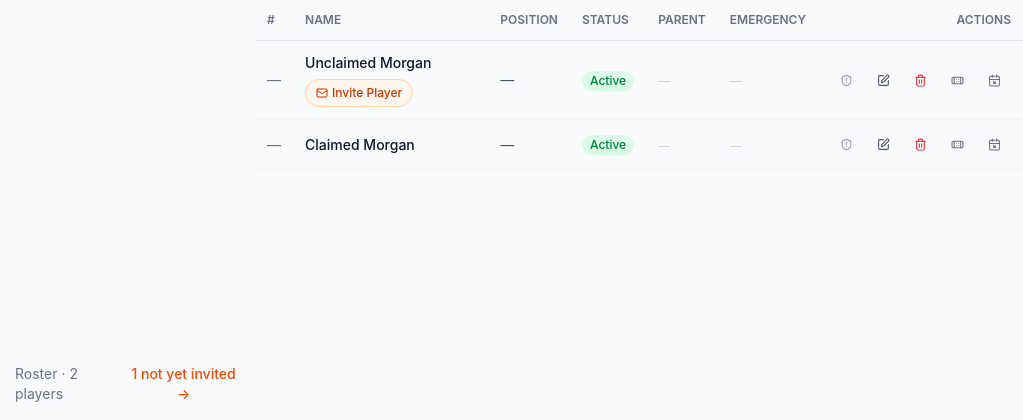
Test: RosterTable — filter toggle › clicking the filter button again shows all players
The image size is (1023, 420).
Click the button "1 not yet invited →" at (184, 384), box [128,364,239,404]
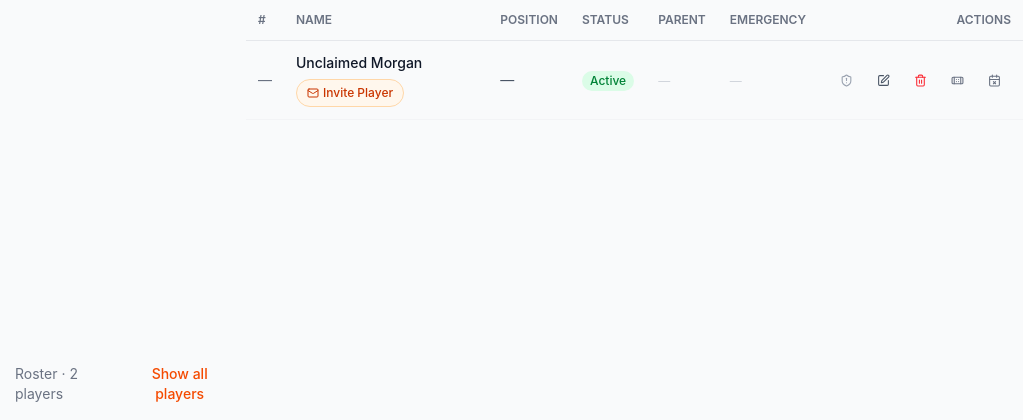
Click the button "Show all players" at (180, 384), box [129,364,230,404]
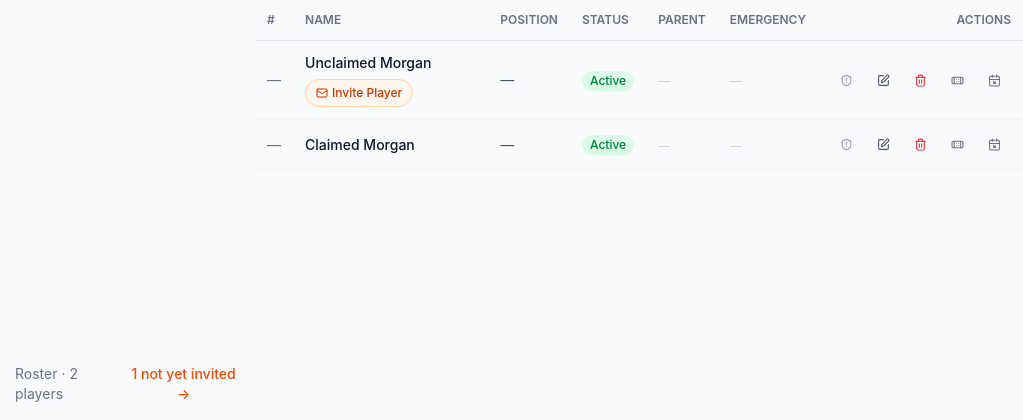
Expected: the text "Unclaimed Morgan" is shown, [305,53,431,73]
Expected: the text "Claimed Morgan" is shown, [305,134,415,154]
